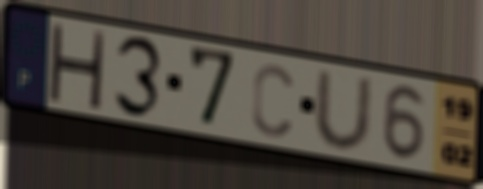3: (106, 33, 167, 120)
6: (381, 82, 428, 163)
7: (187, 43, 237, 132)
C: (249, 60, 296, 140)
H: (45, 20, 108, 113)
U: (311, 68, 375, 154)
